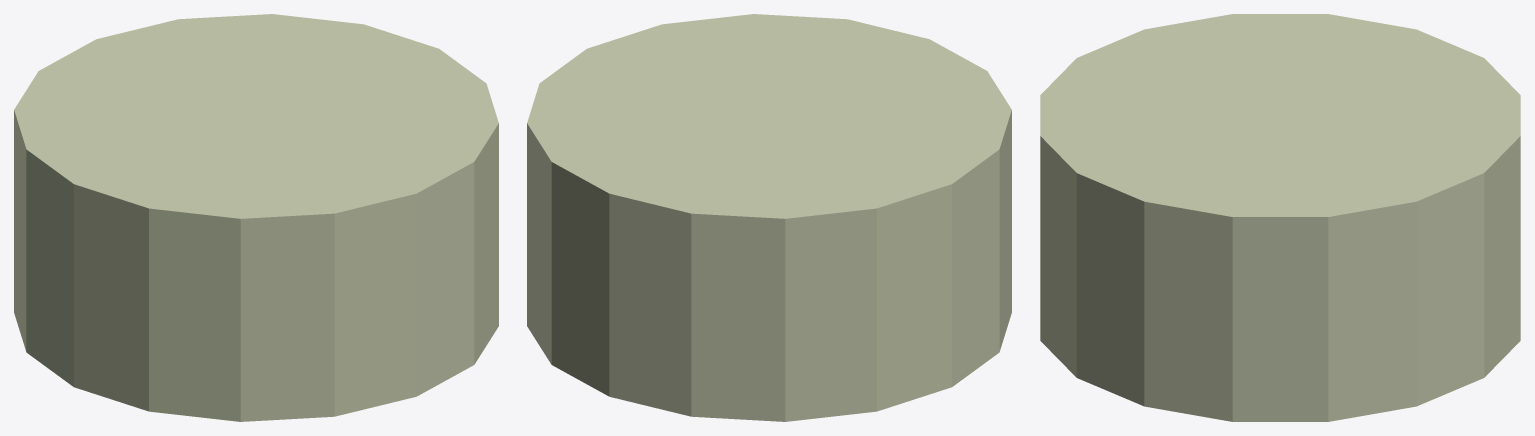
Rendered from LLV_G_LFO_3_Collider.obj.
The picture shows the model from 3 angles, left to right: view 1: azimuth 30°, elevation 25°; view 2: azimuth 150°, elevation 25°; view 3: azimuth 270°, elevation 25°; orthographic projection.
Visible parts, largest first — view 1: LLV_G_LFO_3_Collider; view 2: LLV_G_LFO_3_Collider; view 3: LLV_G_LFO_3_Collider.
Boxes of the visible parts, x1,y1,x2,y2 form: LLV_G_LFO_3_Collider: [14, 14, 498, 421]; LLV_G_LFO_3_Collider: [527, 14, 1011, 421]; LLV_G_LFO_3_Collider: [1040, 14, 1520, 421].
Bounding box in the file's own units: 1.88 × 0.8819 × 1.88.
